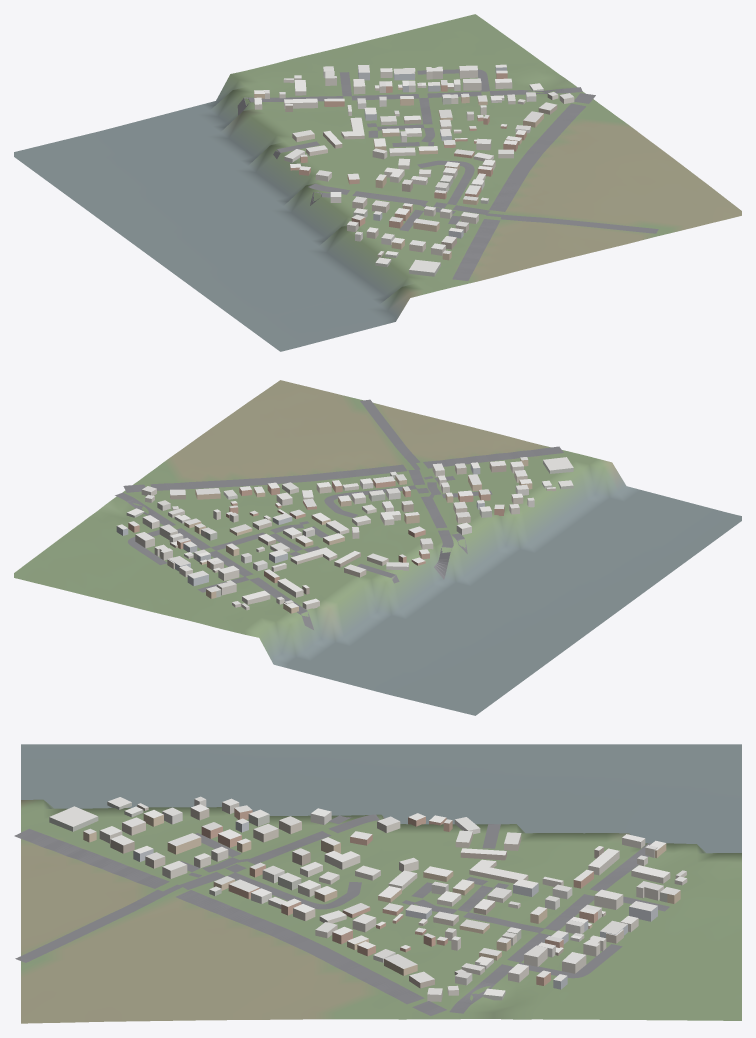
3 renders of one model, top to bottom at view 1: azimuth 30°, elevation 25°; view 2: azimuth 150°, elevation 25°; view 3: azimuth 270°, elevation 25°, orthographic. The views are drawn at different scales.
Visible parts, largest first — view 1: prim0, prim1, prim2; view 2: prim0, prim1, prim2; view 3: prim0, prim1, prim2.
Boxes of the visible parts, x1=… form: prim0: x1=14, y1=14, x2=741, y2=351; prim1: x1=254, y1=64, x2=574, y2=276; prim2: x1=237, y1=69, x2=658, y2=280; prim0: x1=14, y1=380, x2=741, y2=715; prim1: x1=116, y1=457, x2=573, y2=613; prim2: x1=115, y1=399, x2=563, y2=629; prim0: x1=21, y1=744, x2=741, y2=1023; prim1: x1=49, y1=796, x2=687, y2=1001; prim2: x1=14, y1=814, x2=669, y2=1015.
Bounding box in the file's own units: 518 × 41.29 × 517.
